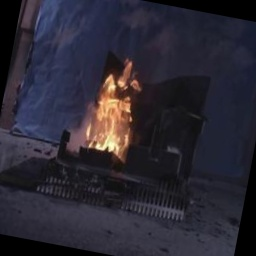fire: (76, 46, 153, 167)
